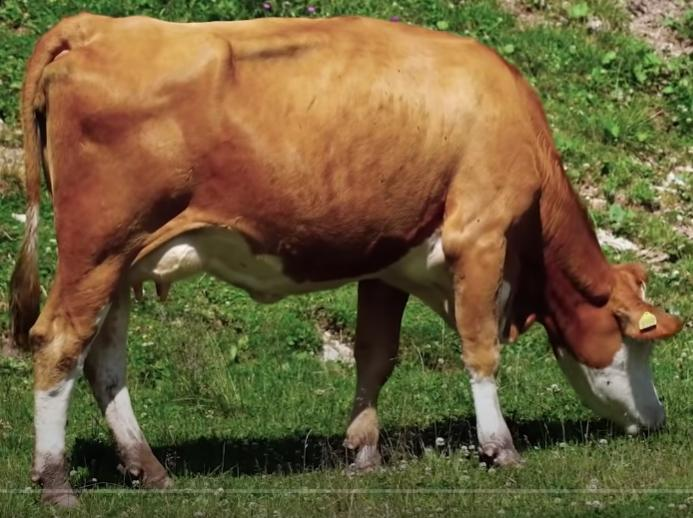cow: (36, 17, 673, 513)
